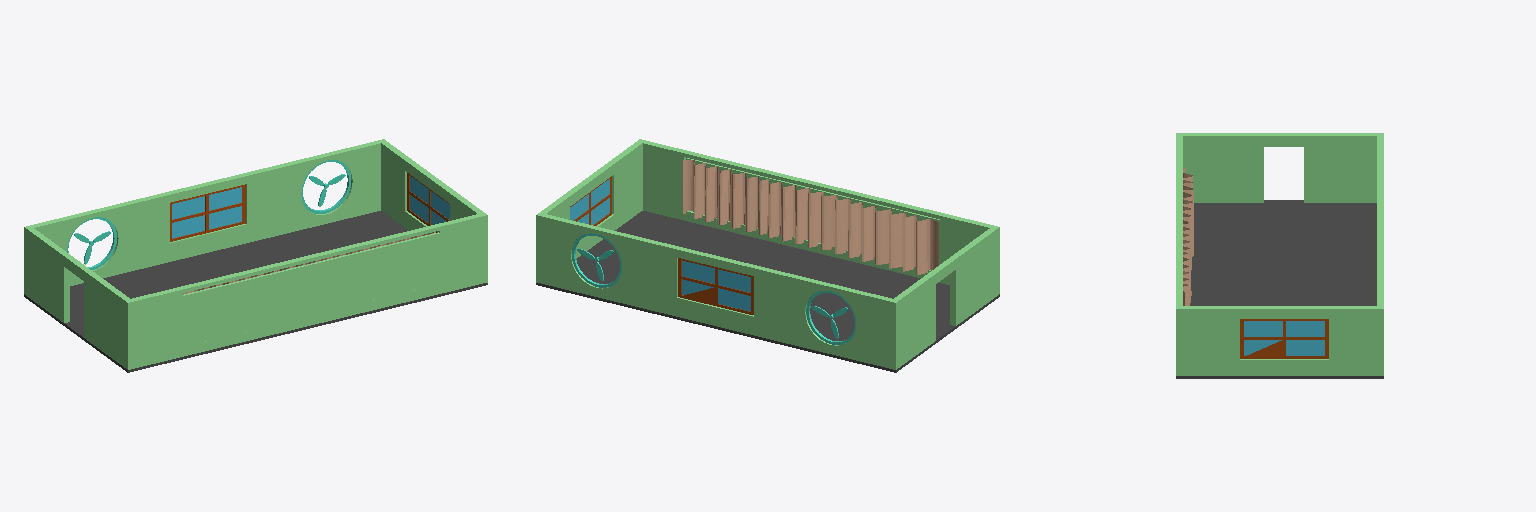
File: house.obj
3 renders of one model, left to right at view 1: azimuth 30°, elevation 25°; view 2: azimuth 150°, elevation 25°; view 3: azimuth 270°, elevation 25°, orthographic.
Visible parts, largest first — view 1: Rectangle001, Rectangle008, Rectangle003, Rectangle002, Rectangle006, Rectangle004, Circle003, Circle002; view 2: Rectangle001, Loft001, Rectangle003, Rectangle002, Rectangle004, Rectangle008, Rectangle006, Circle003, Circle002; view 3: Rectangle001, Rectangle003, Rectangle006, Rectangle005, Loft001.
Boxes of the visible parts, x1=… form: Rectangle001: x1=24, y1=139, x2=487, y2=369; Rectangle008: x1=183, y1=232, x2=439, y2=346; Rectangle003: x1=24, y1=211, x2=487, y2=372; Rectangle002: x1=172, y1=187, x2=241, y2=238; Rectangle006: x1=410, y1=176, x2=449, y2=224; Rectangle004: x1=170, y1=184, x2=245, y2=241; Circle003: x1=301, y1=160, x2=350, y2=213; Circle002: x1=67, y1=217, x2=116, y2=269; Rectangle001: x1=536, y1=139, x2=999, y2=369; Loft001: x1=683, y1=160, x2=938, y2=274; Rectangle003: x1=536, y1=211, x2=999, y2=372; Rectangle002: x1=682, y1=261, x2=750, y2=311; Rectangle004: x1=678, y1=258, x2=753, y2=314; Rectangle008: x1=686, y1=158, x2=940, y2=264; Rectangle006: x1=570, y1=179, x2=609, y2=224; Circle003: x1=572, y1=233, x2=621, y2=287; Circle002: x1=806, y1=291, x2=856, y2=344; Rectangle001: x1=1176, y1=133, x2=1383, y2=375; Rectangle003: x1=1176, y1=200, x2=1383, y2=378; Rectangle006: x1=1244, y1=321, x2=1324, y2=355; Rectangle005: x1=1240, y1=319, x2=1328, y2=358; Loft001: x1=1183, y1=167, x2=1193, y2=305.
Bounding box in the file's own units: 140 × 26 × 70.